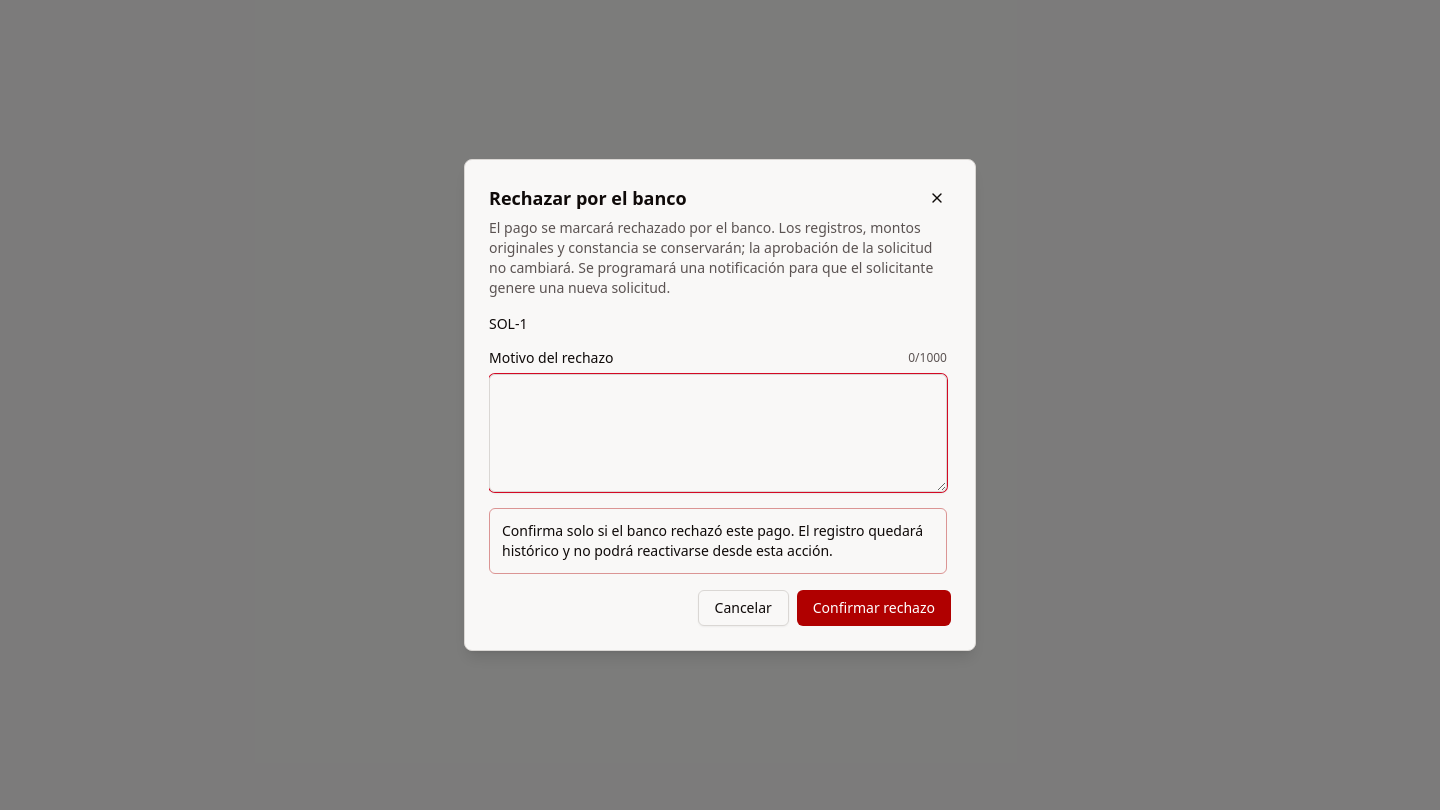
Test case: reused bank reason modal › does not automatically resend bank POST after 401 even when refresh could succeed
The image size is (1440, 810).
In the text box labelled "Motivo del rechazo": (718, 433) [489,374,947,492], type "  Cuenta cerrada  "
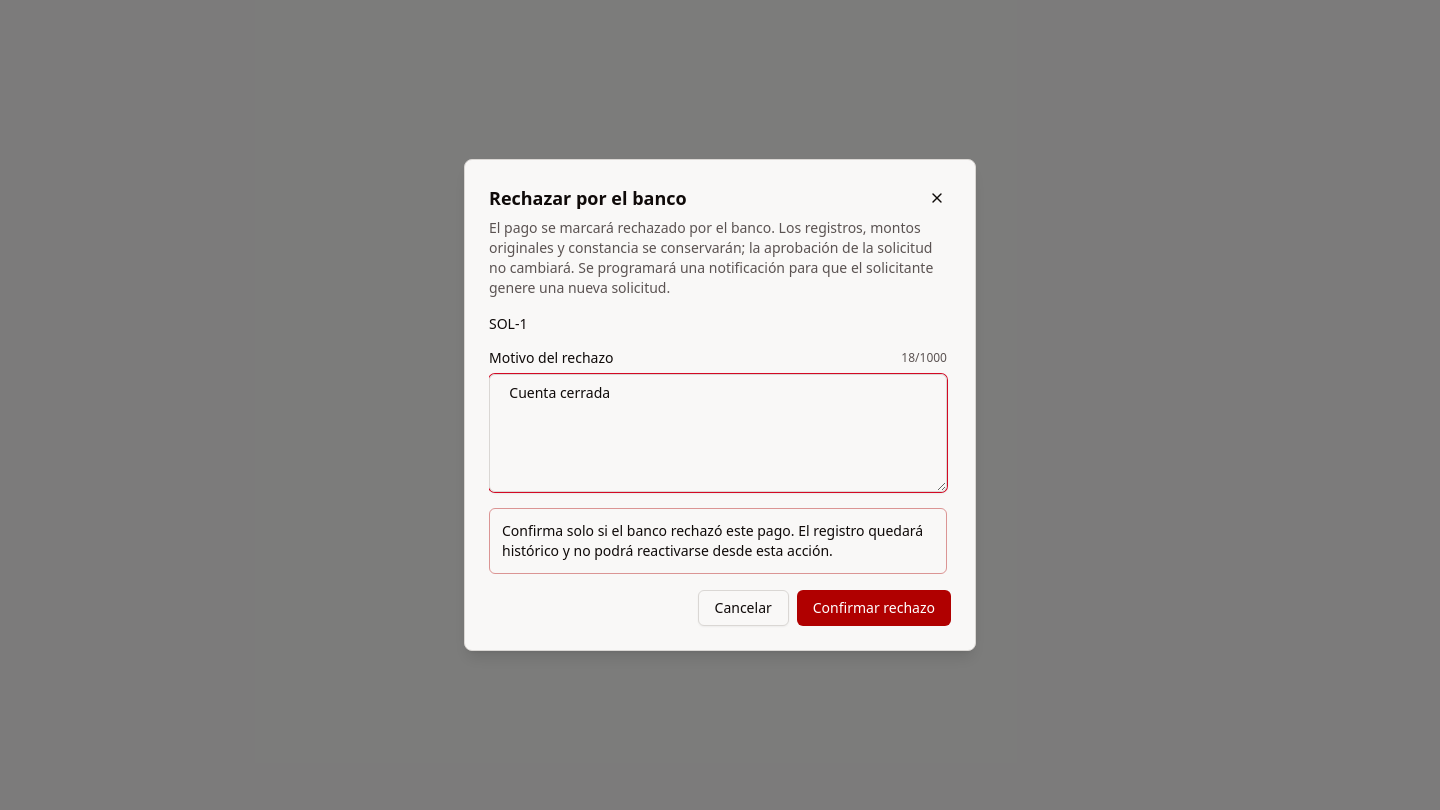
Click the button "Confirmar rechazo": (874, 608) [797,590,951,626]
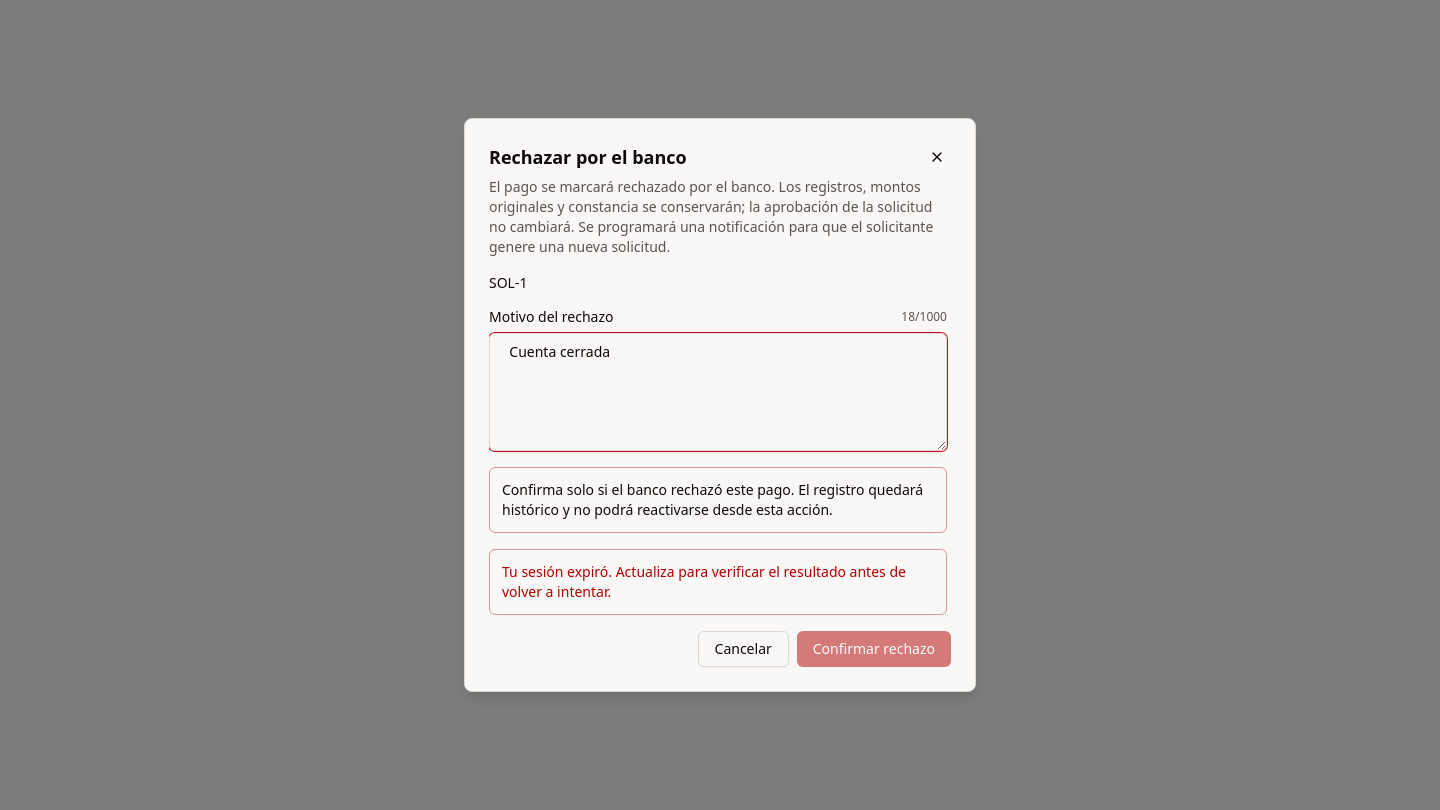
Expected: the message does not show "private auth detail", [489,549,947,615]
Expected: the message shows "Tu sesión expiró. Actualiza para verificar", [502,562,906,601]
Expected: the button "Confirmar rechazo" is disabled, [797,631,951,667]
